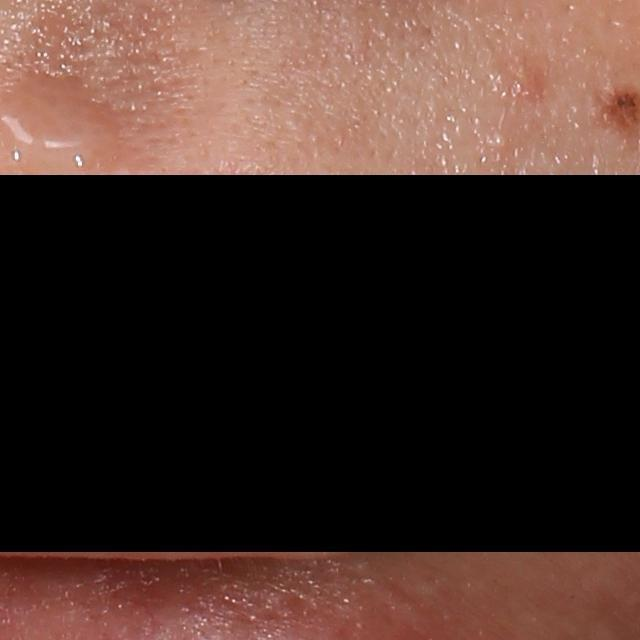comedo: (490, 131, 508, 152)
papule: (492, 58, 545, 104)
